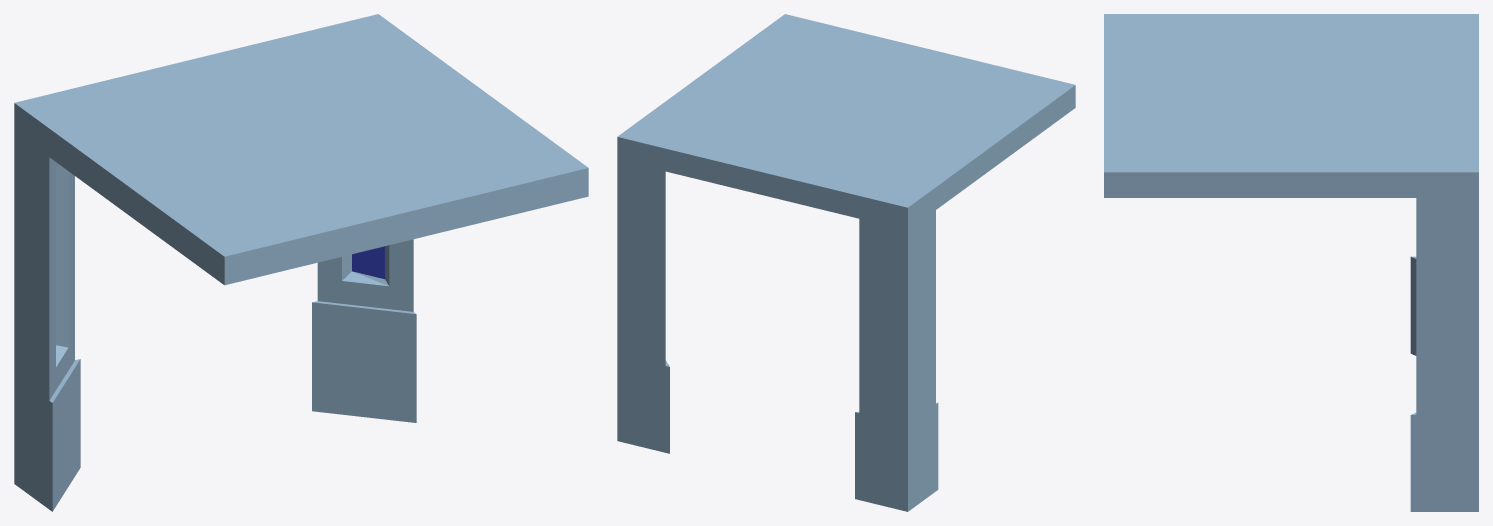
File: EspacioRedSocialScroolIngresoBajoNI.gltf
3 renders of one model, left to right at view 1: azimuth 30°, elevation 25°; view 2: azimuth 150°, elevation 25°; view 3: azimuth 270°, elevation 25°, orthographic. The views are drawn at different scales.
Visible parts, largest first — view 1: Cubo.36; view 2: Cubo.36; view 3: Cubo.36.
Part boxes in pixels (box(x1,y1,x2,y2)): Cubo.36: box(14, 14, 588, 511); Cubo.36: box(617, 14, 1075, 511); Cubo.36: box(1104, 14, 1478, 511).
Size of the model in its own units: 2 by 2 by 2.
Materials: 1 (1 with a texture image).
